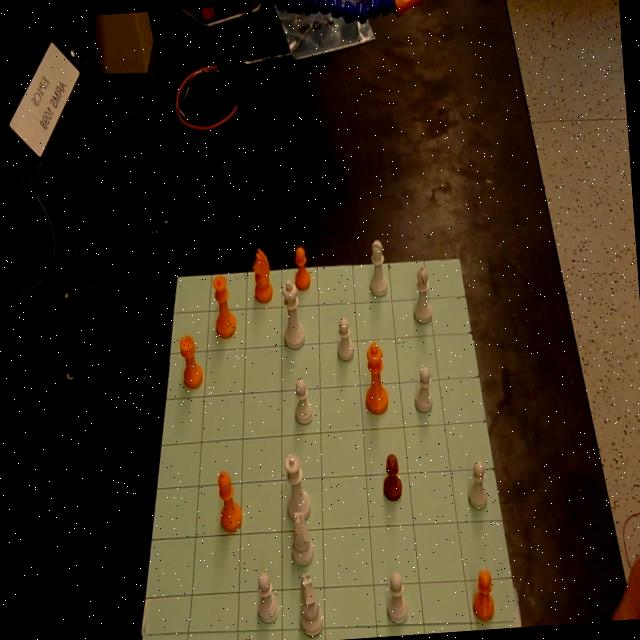orange_bishop: (361, 341, 389, 416), (216, 468, 243, 533)
orange_knight: (250, 245, 274, 303)
orange_pawn: (470, 567, 495, 622), (380, 452, 402, 501), (292, 244, 311, 291)
orange_queen: (212, 274, 238, 339)
orange_rook: (178, 332, 204, 390)
white_bishop: (366, 238, 389, 298), (410, 264, 432, 324)
white_king: (280, 278, 306, 348)
white_knight: (296, 570, 324, 636), (288, 508, 314, 566)
white_pawn: (254, 570, 280, 624), (384, 570, 409, 624), (465, 458, 488, 509), (292, 376, 314, 425), (412, 366, 434, 414), (336, 318, 354, 362)
white_queen: (282, 452, 312, 522)
